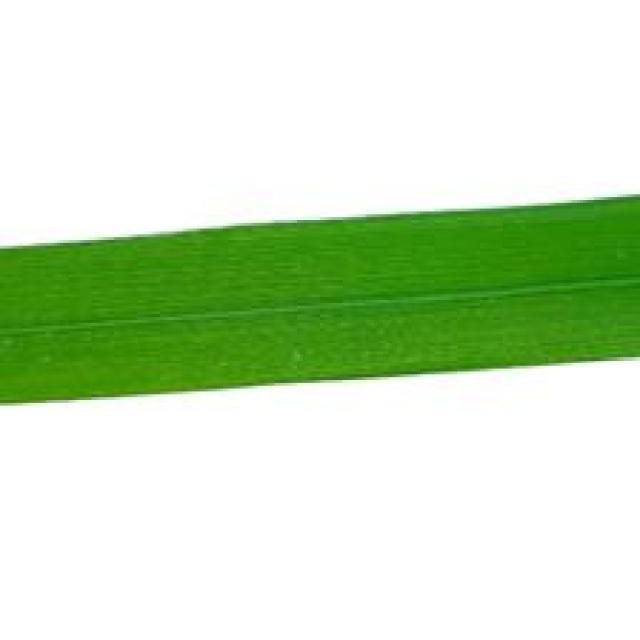Rice___Healthy_Rice_Plant: (0, 195, 637, 404)
